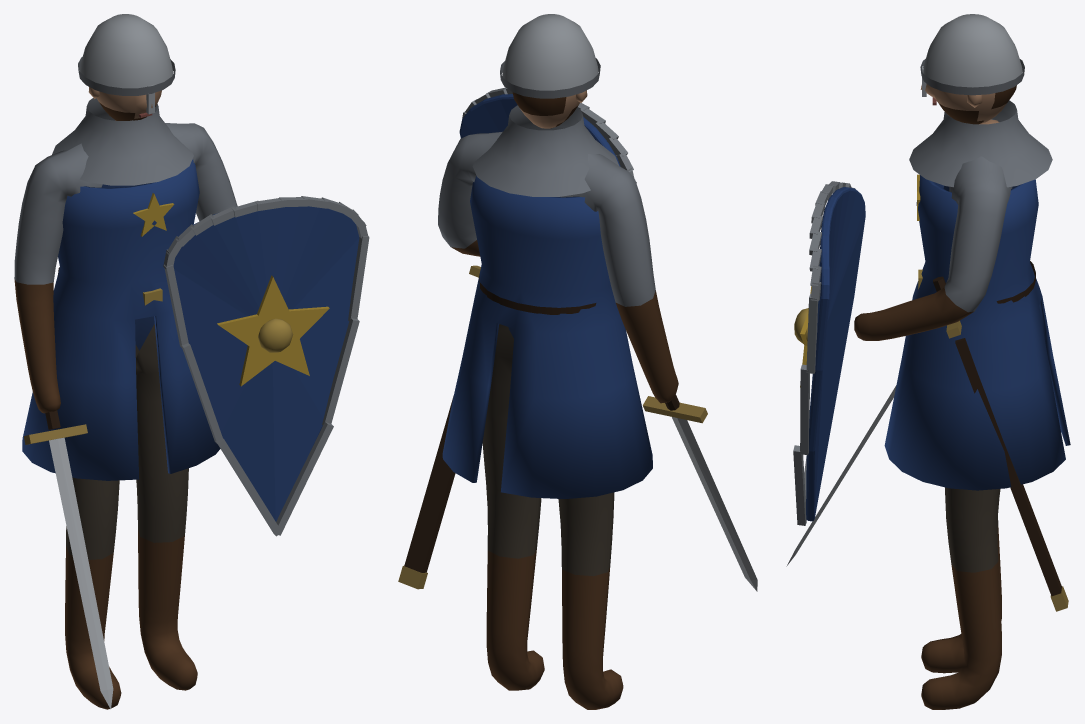
Rendered from soldier_schild.glb.
3 renders of one model, left to right at view 1: azimuth 30°, elevation 25°; view 2: azimuth 150°, elevation 25°; view 3: azimuth 270°, elevation 25°, orthographic. The views are drawn at different scales.
Visible parts, largest first — view 1: soldier_schild; view 2: soldier_schild; view 3: soldier_schild.
Boxes of the visible parts, <box> form: soldier_schild: <box>14,14,369,709</box>; soldier_schild: <box>398,14,757,709</box>; soldier_schild: <box>786,14,1070,709</box>.
Size of the model in its own units: 0.8157 by 1.81 by 0.693.
